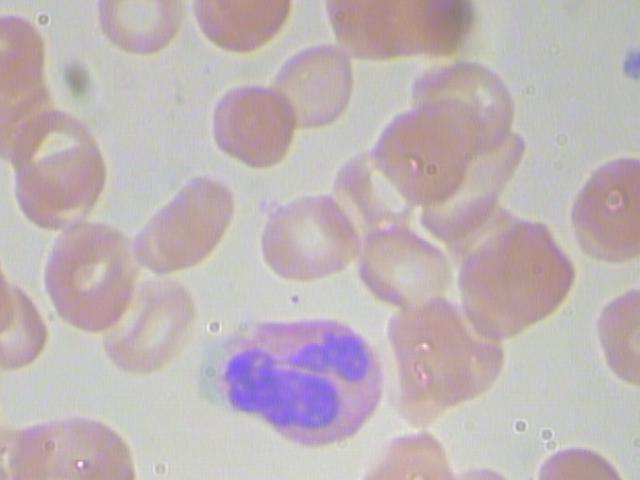Platelets: (615, 41, 639, 82)
RBC: (30, 219, 144, 336), (368, 99, 480, 211), (127, 170, 239, 279), (7, 99, 110, 213), (100, 261, 202, 375), (476, 217, 578, 331), (257, 181, 355, 287), (355, 217, 453, 310), (563, 154, 639, 266), (266, 42, 357, 129), (210, 83, 301, 166), (190, 1, 296, 58), (82, 1, 188, 58), (364, 429, 455, 480)
WBC: (204, 295, 393, 449)
